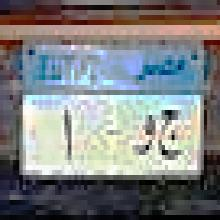1: (60, 105, 77, 163)
jeem: (159, 102, 183, 166)
waw: (132, 109, 156, 162)
